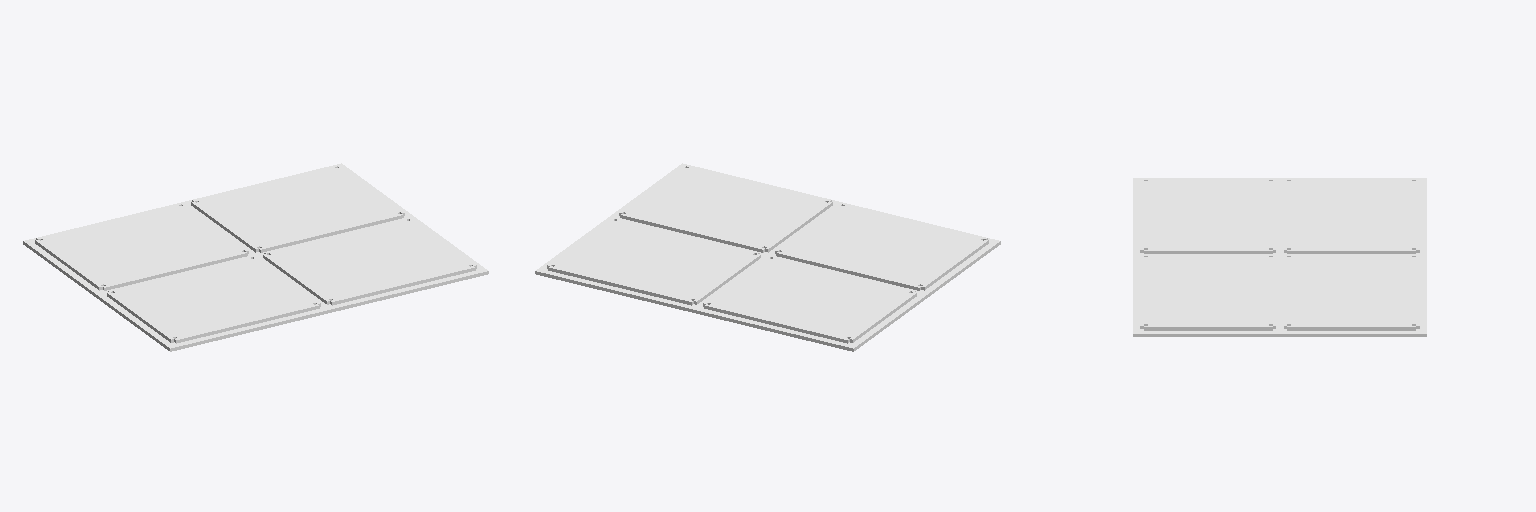
File: a792_WallPanel_01.obj
3 views of the same model, side by side, from view 1: azimuth 30°, elevation 25°; view 2: azimuth 150°, elevation 25°; view 3: azimuth 270°, elevation 25° (orthographic).
Bounding box in the file's own units: 100 × 2 × 80.